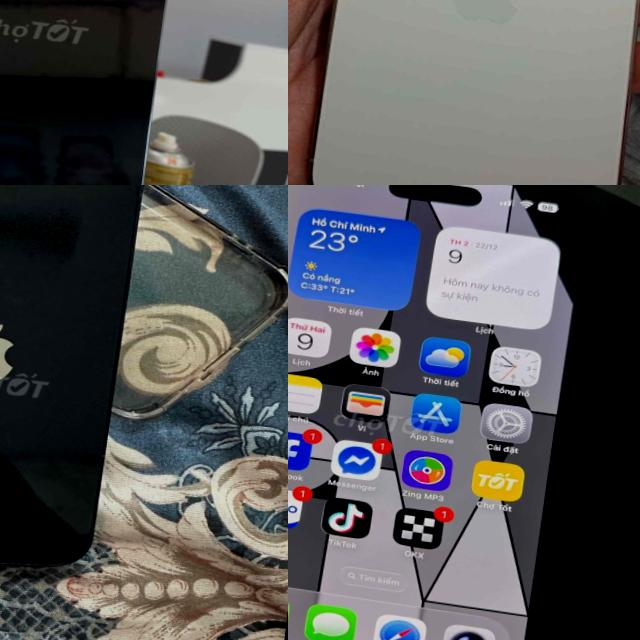gen_12_13: (0, 185, 150, 592)
gen_14: (288, 0, 640, 185), (0, 0, 185, 185)
gen_16: (288, 185, 604, 640)
